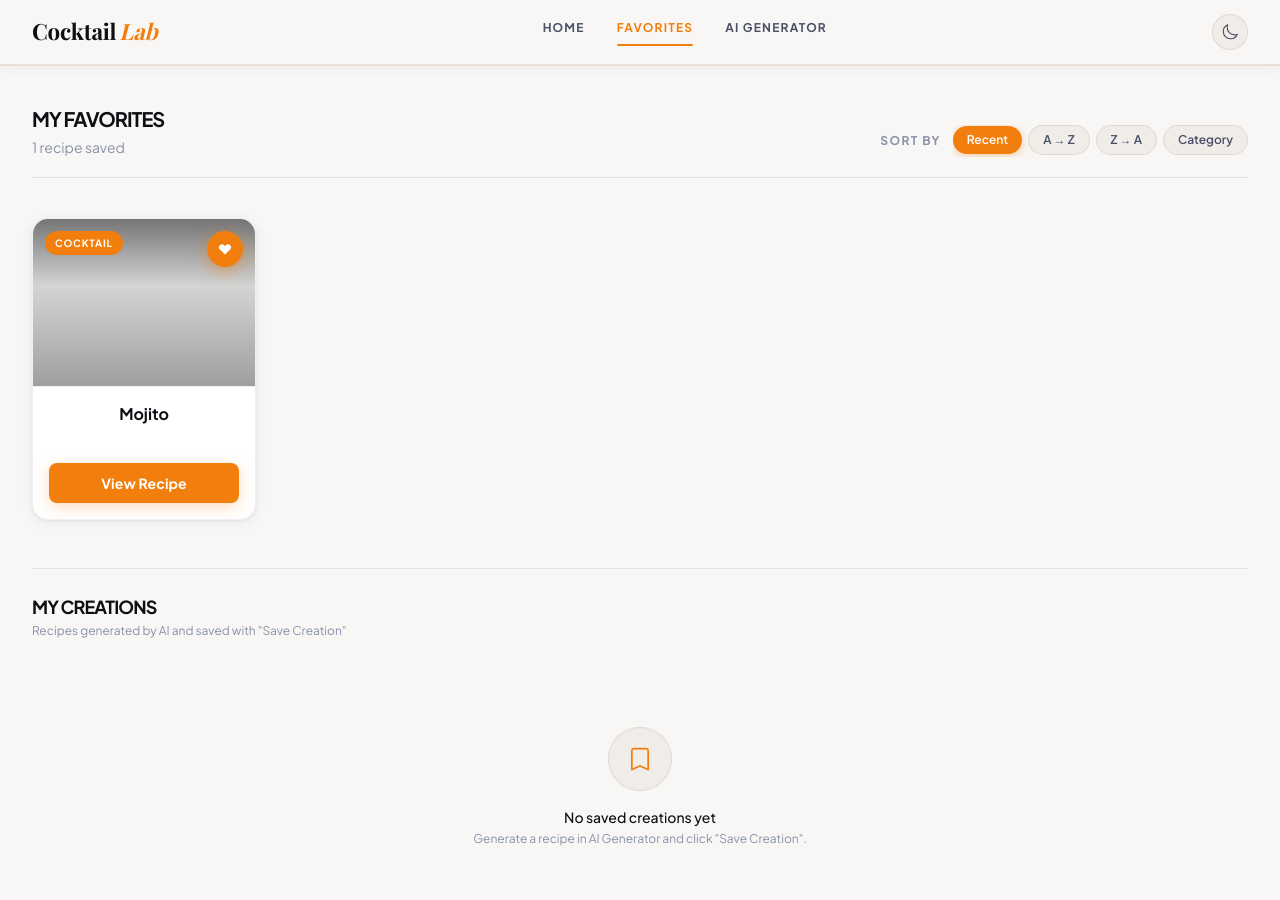
Favorites Flow — Integration › Remove from favorites › shows empty state after removing the last favorite
Click the button named "remove mojito from favorites": (225, 249) top-left (207, 231), bottom-right (243, 267)
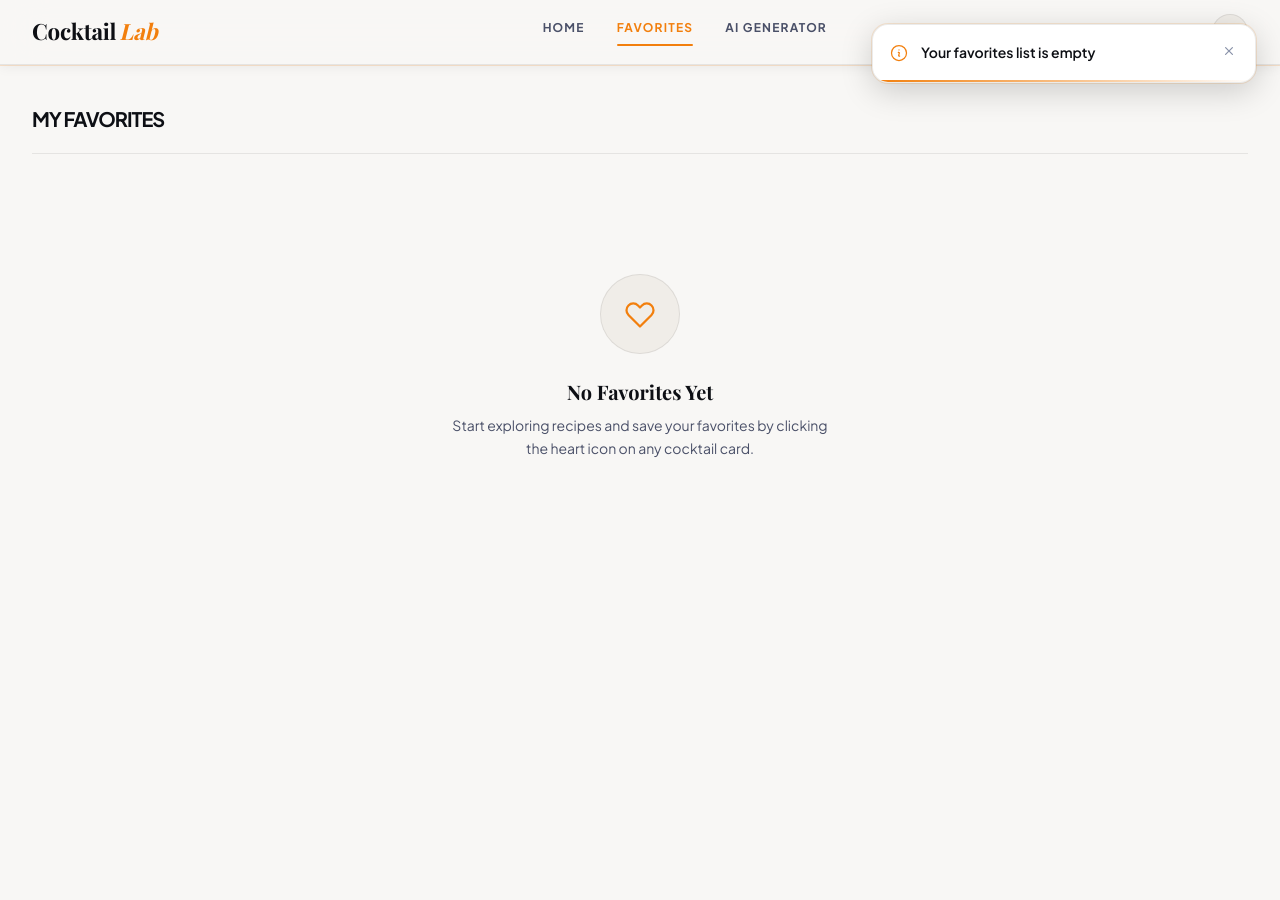
Expected: the heading "No Favorites Yet" is shown, top-left (567, 378), bottom-right (713, 406)
